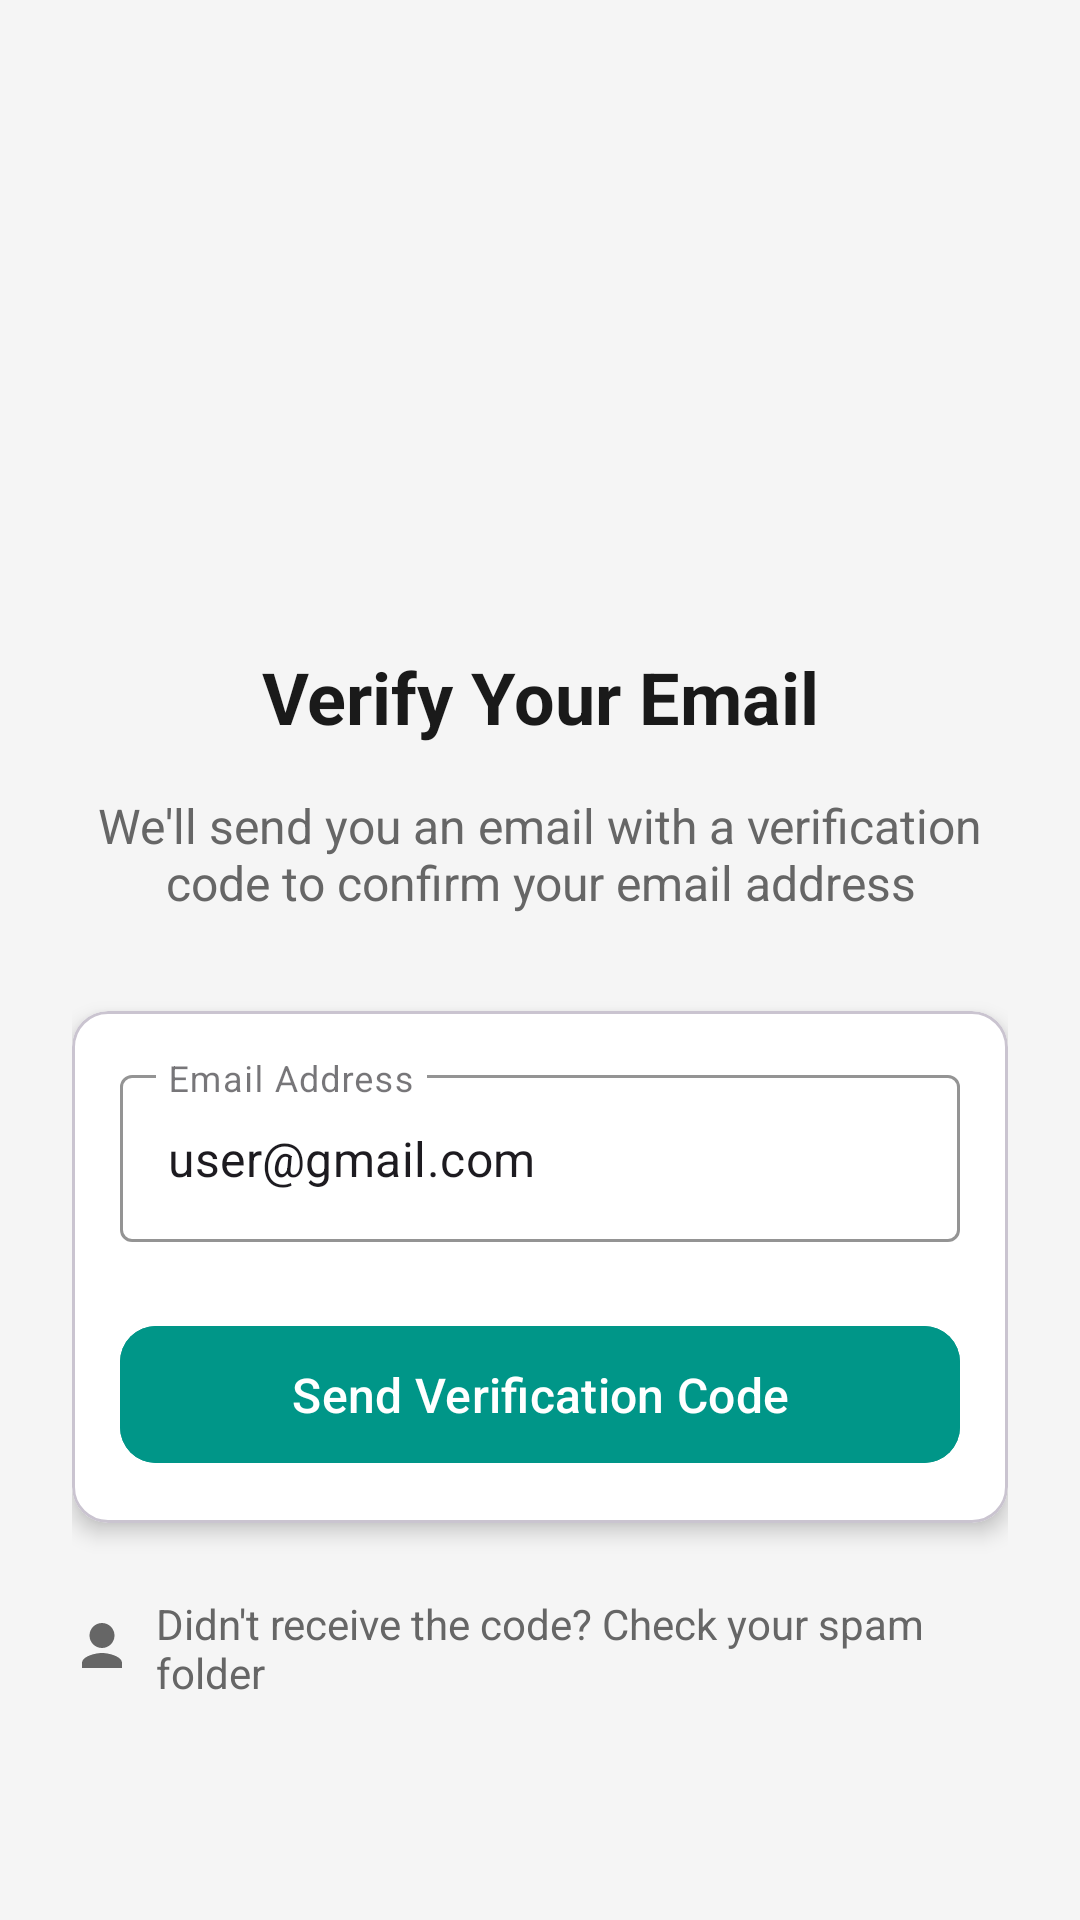

Screen size 1080 x 1920. Icon name, then its box in pixels as Rect(x1, y1, x2, y2):
profile: Rect(82, 1623, 122, 1668)
